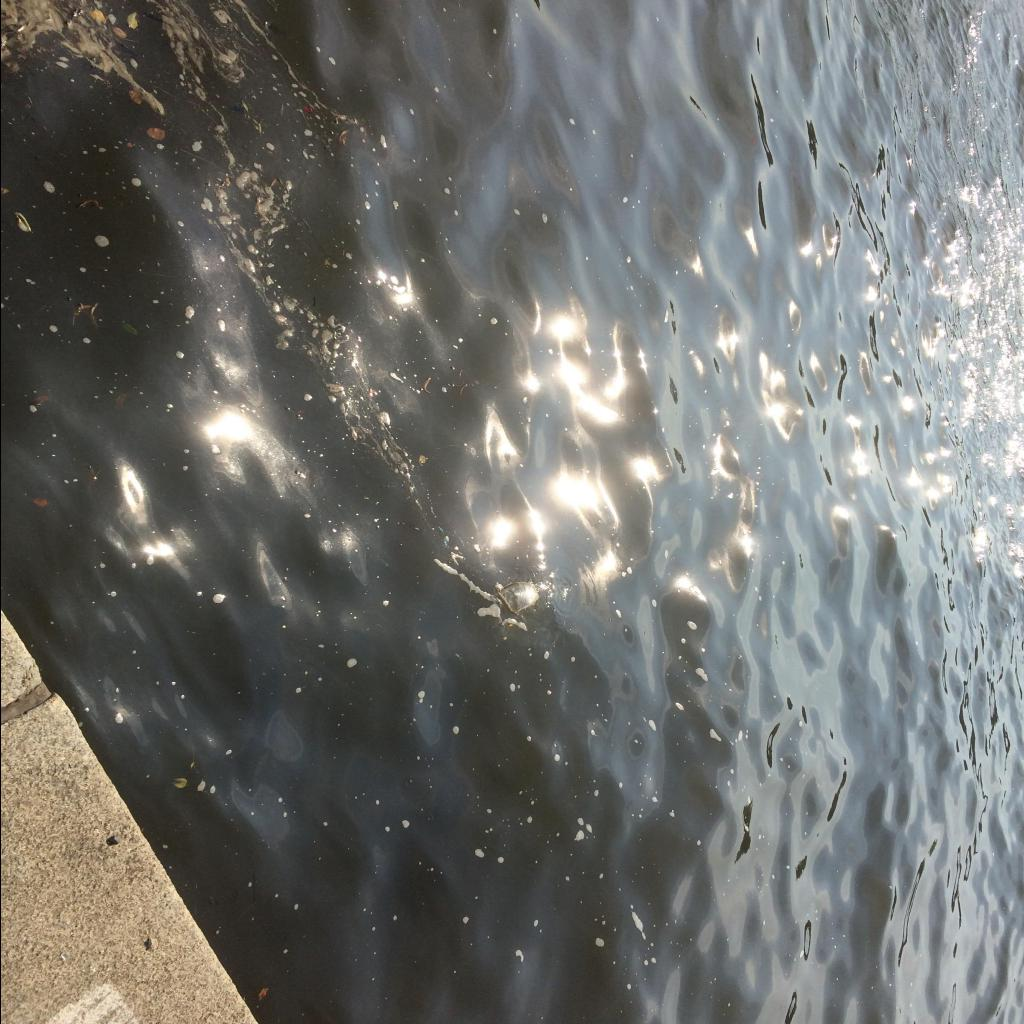Plastic film: (496, 581, 538, 615)
